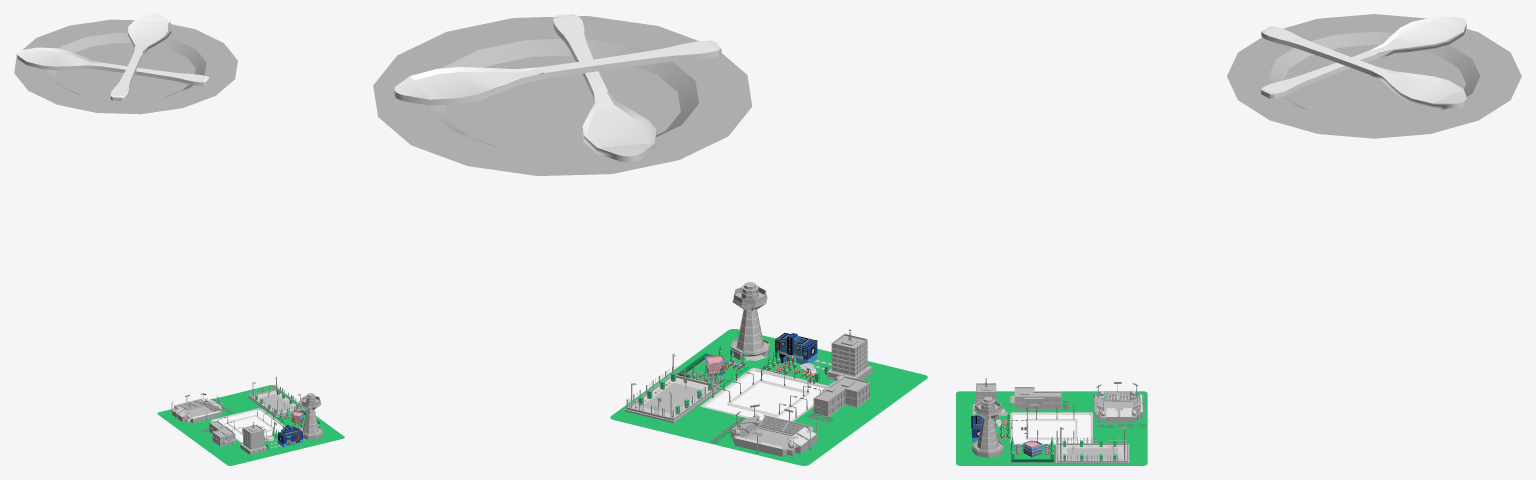
File: City.fbx
3 renders of one model, left to right at view 1: azimuth 30°, elevation 25°; view 2: azimuth 150°, elevation 25°; view 3: azimuth 270°, elevation 25°, orthographic. The views are drawn at different scales.
Visible parts, largest first — view 1: Restaurant_Name, Cube.003, BasketBallCourt_Ground, Buidling_type10, Cube.004, Bank, Cinema Theater; view 2: Restaurant_Name, Cube.003, BasketBallCourt_Ground, Buidling_type10, Cube.004, Bank, Cinema Theater, Cube.002, Cube.001, Stadium_FootBallPitch; view 3: Restaurant_Name, Cube.003, BasketBallCourt_Ground, Buidling_type10, Bank.
Part boxes in pixels (box(x1,y1,x2,y2)): Restaurant_Name: box(14, 14, 237, 114); Cube.003: box(157, 385, 344, 465); BasketBallCourt_Ground: box(248, 389, 304, 417); Buidling_type10: box(299, 393, 322, 439); Cube.004: box(240, 424, 267, 454); Bank: box(209, 420, 236, 446); Cinema Theater: box(277, 425, 302, 447); Restaurant_Name: box(373, 14, 752, 175); Cube.003: box(610, 329, 927, 465); BasketBallCourt_Ground: box(624, 375, 721, 422); Buidling_type10: box(730, 282, 769, 360); Cube.004: box(827, 333, 872, 381); Bank: box(813, 376, 869, 416); Cinema Theater: box(774, 333, 817, 373); Cube.002: box(700, 368, 827, 421); Cube.001: box(727, 379, 810, 417); Stadium_FootBallPitch: box(744, 426, 805, 450); Restaurant_Name: box(1227, 14, 1521, 138); Cube.003: box(956, 391, 1147, 465); BasketBallCourt_Ground: box(1056, 443, 1129, 463); Buidling_type10: box(972, 396, 1003, 457); Bank: box(1010, 387, 1061, 410).
Bounding box in the file's own units: 48915 × 67387 × 93781.
